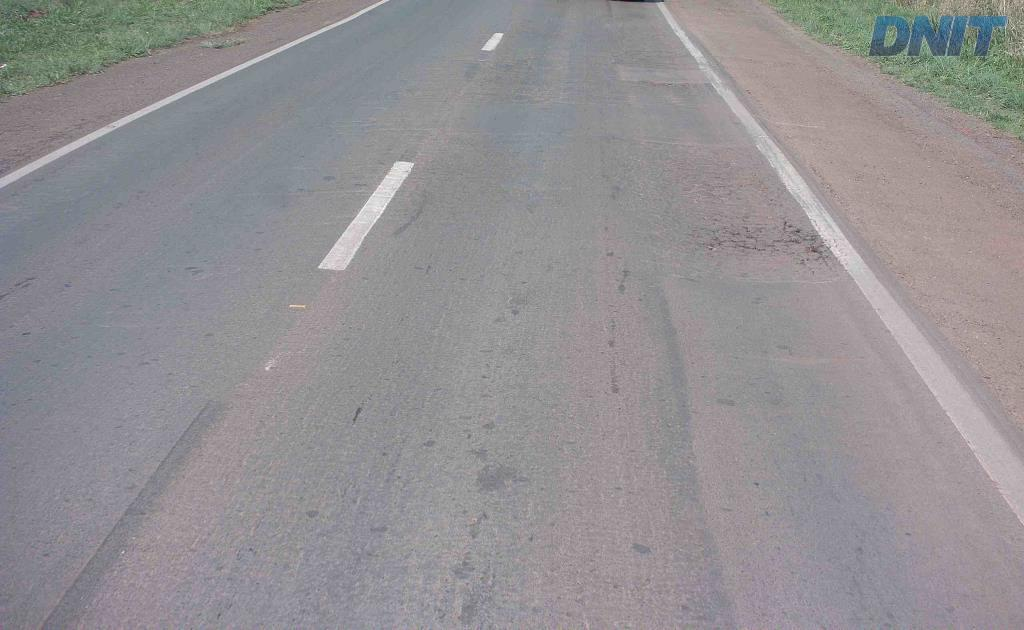crack: (686, 216, 829, 265)
